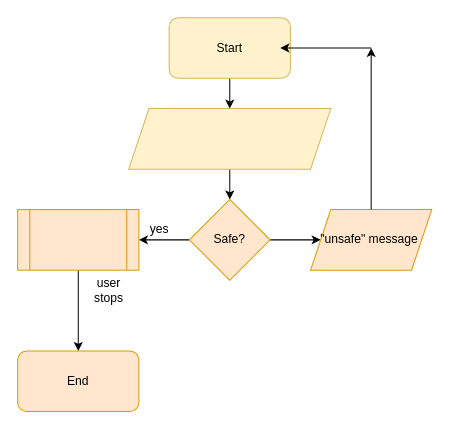
The diagram is 449 pixels wide and 429 high, and some of its shapes have lost their labels. The shapes that lost their labels are listed below. From the top down, each one's box as (x1, y1, x2, y2) in pixels, then its label:
(128, 108, 331, 169): Initial conditions provided by user
(17, 209, 139, 270): Simulation runs
